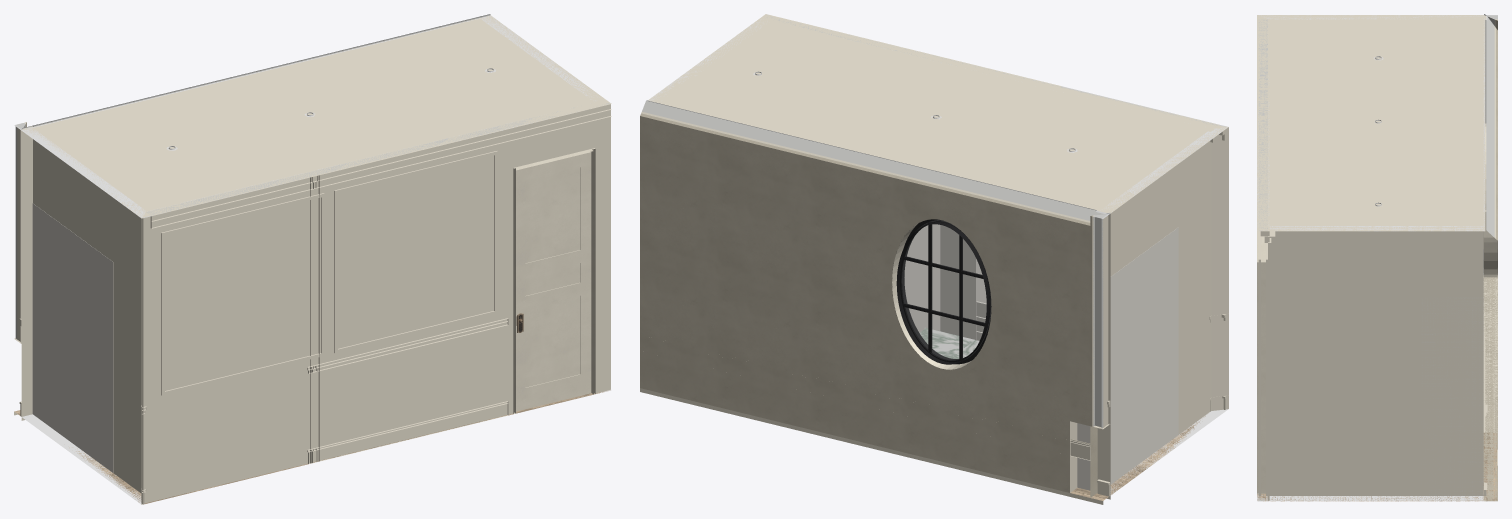
The model's file is primary-loli-closet-e3b17acf377f.glb.
3 views of the same model, side by side, from view 1: azimuth 30°, elevation 25°; view 2: azimuth 150°, elevation 25°; view 3: azimuth 270°, elevation 25° (orthographic). The views are drawn at different scales.
Parts seen in each view (by area): view 1: primary-loli-closet-21ac2ed1b4475155, primary-loli-closet-9d91b47435c6fb33, primary-loli-closet-6d601da8073fdc0e, primary-loli-closet-77b772996f7f67b8, primary-loli-closet-69af8f587252f9fa, primary-loli-closet-e7983be95ab098c1, primary-loli-closet-e48b5483df8cacdb, primary-loli-closet-40ba494a131a1b09, primary-loli-closet-c8a93ab7b69c3b53, primary-loli-closet-9e6cdde78fc443e1, primary-loli-closet-08e5178be0cf1e43, primary-loli-closet-3a163573517a0810 (+9 smaller); view 2: primary-loli-closet-3763e2fb8578d282, primary-loli-closet-9d91b47435c6fb33, primary-loli-closet-3a806c711886e947, primary-loli-closet-69af8f587252f9fa, primary-loli-closet-77b772996f7f67b8, primary-loli-closet-bc6b014e2fd7351d, primary-loli-closet-91eb0f90e9e94d87, primary-loli-closet-28fa16303b99ff8f, primary-loli-closet-b503483da03aa295, primary-loli-closet-2575515a05775d9e, primary-loli-closet-254dccfc69fd7b68, primary-loli-closet-3a163573517a0810 (+8 smaller); view 3: primary-loli-closet-95b94d4b81cfb474, primary-loli-closet-9d91b47435c6fb33, primary-loli-closet-3a806c711886e947, primary-loli-closet-91eb0f90e9e94d87, primary-loli-closet-21ac2ed1b4475155, primary-loli-closet-9e6cdde78fc443e1, primary-loli-closet-4717698be62d0b44, primary-loli-closet-3a163573517a0810, primary-loli-closet-2575515a05775d9e, primary-loli-closet-982e9316be37b1b4, primary-loli-closet-947ece252fc5b1be, primary-loli-closet-942c52dd436cf41a (+6 smaller).
Boxes of the visible parts, x1=… form: primary-loli-closet-21ac2ed1b4475155: x1=142, y1=103, x2=611, y2=504; primary-loli-closet-9d91b47435c6fb33: x1=21, y1=15, x2=611, y2=218; primary-loli-closet-6d601da8073fdc0e: x1=516, y1=152, x2=591, y2=411; primary-loli-closet-77b772996f7f67b8: x1=32, y1=203, x2=113, y2=472; primary-loli-closet-69af8f587252f9fa: x1=22, y1=128, x2=145, y2=504; primary-loli-closet-e7983be95ab098c1: x1=20, y1=15, x2=490, y2=343; primary-loli-closet-e48b5483df8cacdb: x1=310, y1=175, x2=319, y2=462; primary-loli-closet-40ba494a131a1b09: x1=161, y1=193, x2=324, y2=395; primary-loli-closet-c8a93ab7b69c3b53: x1=334, y1=151, x2=497, y2=353; primary-loli-closet-9e6cdde78fc443e1: x1=513, y1=148, x2=595, y2=413; primary-loli-closet-08e5178be0cf1e43: x1=150, y1=104, x2=611, y2=228; primary-loli-closet-3a163573517a0810: x1=141, y1=98, x2=603, y2=211; primary-loli-closet-3763e2fb8578d282: x1=640, y1=113, x2=1092, y2=426; primary-loli-closet-9d91b47435c6fb33: x1=647, y1=14, x2=1227, y2=214; primary-loli-closet-3a806c711886e947: x1=640, y1=316, x2=1077, y2=492; primary-loli-closet-69af8f587252f9fa: x1=1099, y1=127, x2=1228, y2=495; primary-loli-closet-77b772996f7f67b8: x1=1077, y1=227, x2=1178, y2=490; primary-loli-closet-bc6b014e2fd7351d: x1=902, y1=220, x2=990, y2=360; primary-loli-closet-91eb0f90e9e94d87: x1=642, y1=100, x2=1107, y2=220; primary-loli-closet-28fa16303b99ff8f: x1=924, y1=224, x2=986, y2=340; primary-loli-closet-b503483da03aa295: x1=892, y1=219, x2=991, y2=364; primary-loli-closet-2575515a05775d9e: x1=640, y1=388, x2=1205, y2=504; primary-loli-closet-254dccfc69fd7b68: x1=1093, y1=215, x2=1103, y2=428; primary-loli-closet-3a163573517a0810: x1=758, y1=18, x2=1214, y2=142; primary-loli-closet-95b94d4b81cfb474: x1=1269, y1=226, x2=1483, y2=501; primary-loli-closet-9d91b47435c6fb33: x1=1257, y1=14, x2=1487, y2=231; primary-loli-closet-3a806c711886e947: x1=1483, y1=275, x2=1497, y2=501; primary-loli-closet-91eb0f90e9e94d87: x1=1485, y1=15, x2=1494, y2=432; primary-loli-closet-21ac2ed1b4475155: x1=1257, y1=16, x2=1269, y2=501; primary-loli-closet-9e6cdde78fc443e1: x1=1257, y1=236, x2=1265, y2=493; primary-loli-closet-4717698be62d0b44: x1=1421, y1=297, x2=1483, y2=495; primary-loli-closet-3a163573517a0810: x1=1268, y1=19, x2=1275, y2=242; primary-loli-closet-2575515a05775d9e: x1=1257, y1=432, x2=1497, y2=501; primary-loli-closet-982e9316be37b1b4: x1=1258, y1=15, x2=1266, y2=242; primary-loli-closet-947ece252fc5b1be: x1=1484, y1=123, x2=1497, y2=277; primary-loli-closet-942c52dd436cf41a: x1=1258, y1=243, x2=1260, y2=495.
Bounding box in the file's own units: 4.98 × 2.95 × 2.34.
22 materials, 5 textured.
